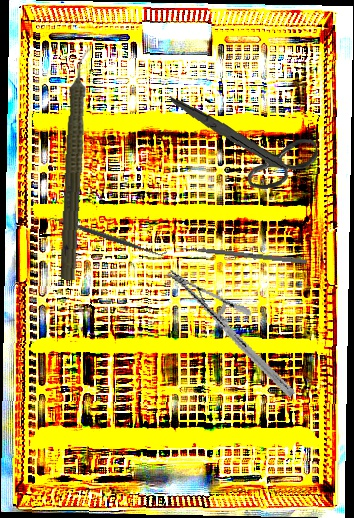Handpiece: (55, 46, 98, 281)
Iris Scissors: (170, 87, 320, 195)
Needle Holder: (143, 267, 319, 399)
Pusher: (171, 244, 307, 265)
Spatula Surgical: (47, 210, 168, 263)
